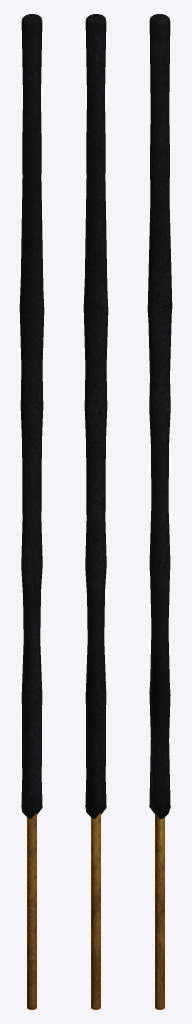
The model's file is incense_stick_01.DAE.
3 views of the same model, side by side, from view 1: azimuth 30°, elevation 25°; view 2: azimuth 210°, elevation 25°; view 3: azimuth 270°, elevation 25° (orthographic).
Parts seen in each view (by area): view 1: incense_stick_01; view 2: incense_stick_01; view 3: incense_stick_01.
Part boxes in pixels (x1,y1,x2,y2): incense_stick_01: [19, 14, 44, 1009]; incense_stick_01: [83, 14, 108, 1009]; incense_stick_01: [147, 14, 172, 1009].
Size of the model in its own units: 0.7568 by 35 by 0.7879.
